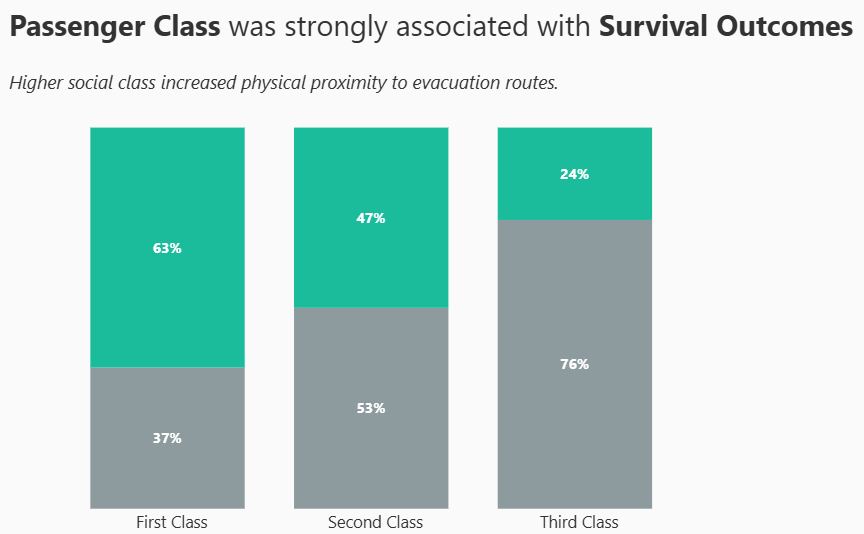

The page's visual inventory and layout, read from the dashboard file:
{"tool":"powerbi","page":{"name":"2","canvas":[1280,720],"ordinal":1},"visuals":[{"type":"hundredPercentStackedColumnChart","fields":{"Series":["cleaned_titanic_data.isSurvivor"],"Y":["_Measures.totalTravellers"],"Category":["cleaned_titanic_data.ticketClassAbrv"]},"box":[18,161.9,956.1,557.8],"z":0},{"type":"textbox","box":[18.1,21.9,1252.9,139.4],"z":1000}]}

Visuals, with their boxes on the page's 1280x720 design canvas (x1, y1, x2, y2). These are canvas units, not pixel positions in the 864x534 screenshot, which may show the page scaled, cropped or inside an application window:
hundredPercentStackedColumnChart - cleaned_titanic_data.isSurvivor x _Measures.totalTravellers: bbox=(18, 162, 974, 720)
textbox: bbox=(18, 22, 1271, 161)
